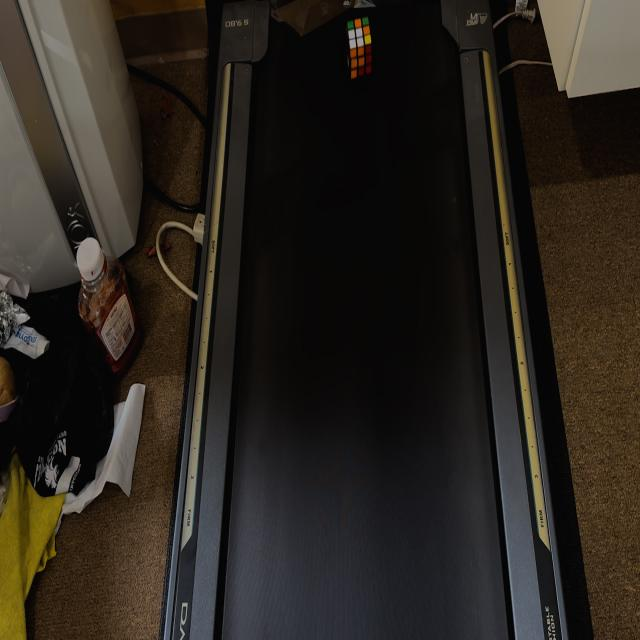Trash: (346, 17, 376, 82)
